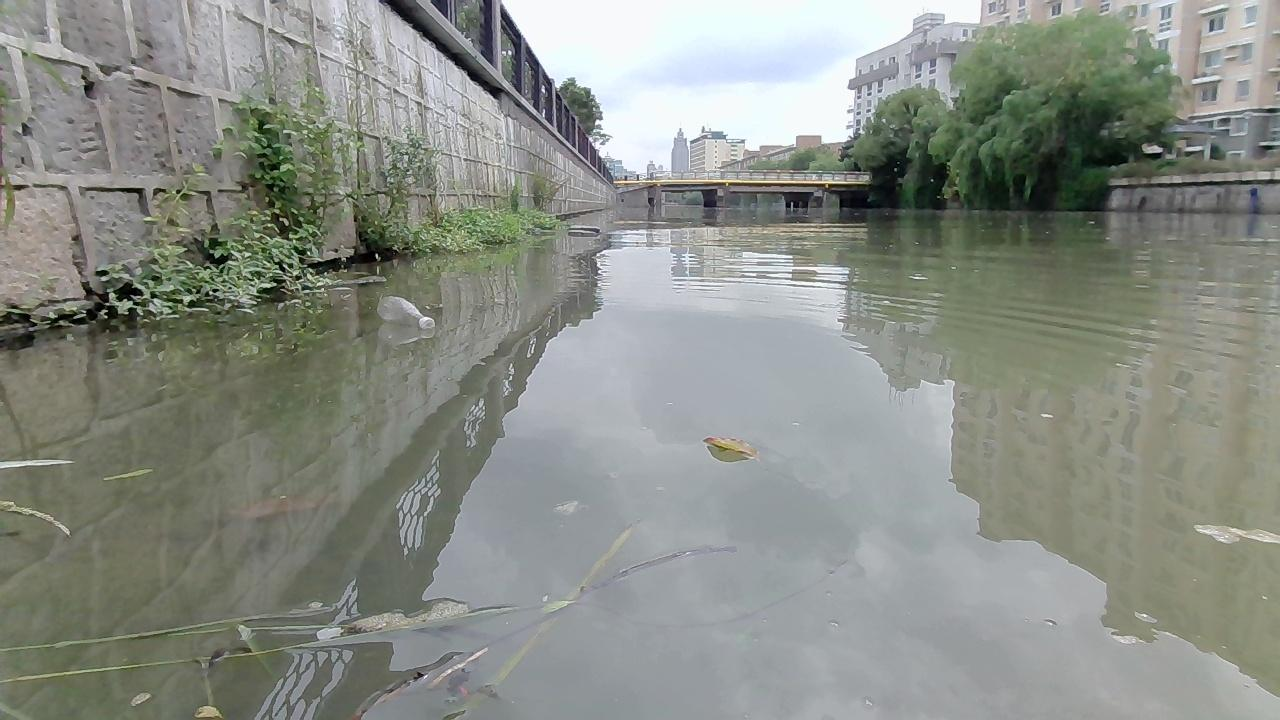bottle: (373, 291, 435, 329)
